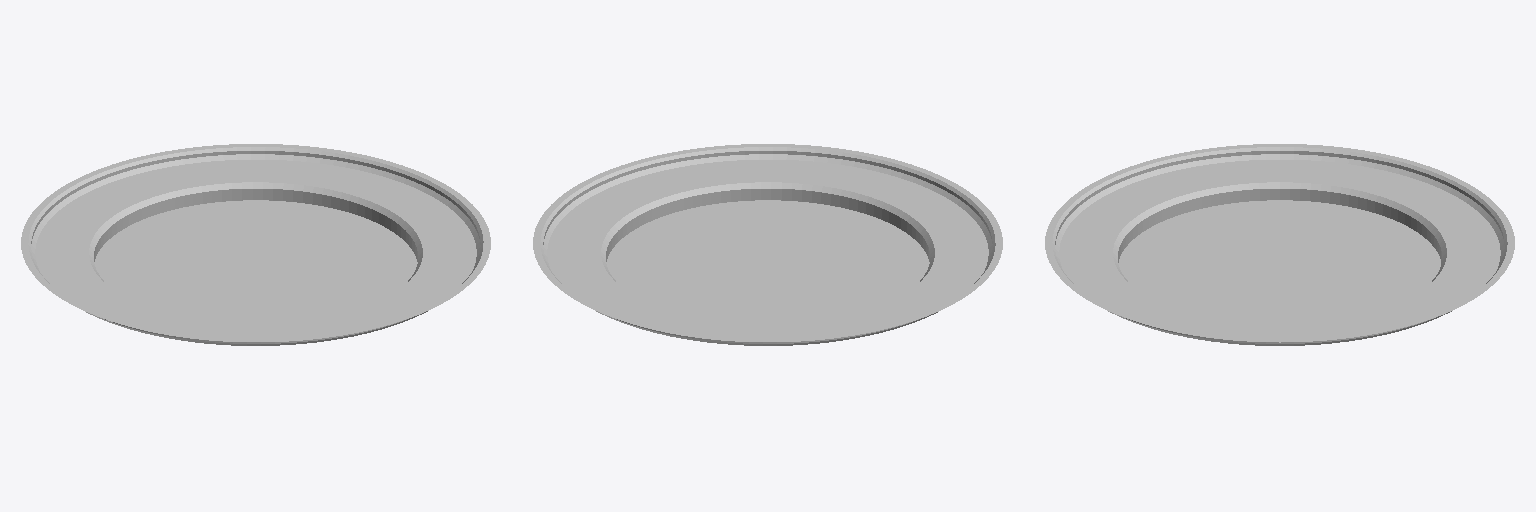
File: plate.obj
3 views of the same model, side by side, from view 1: azimuth 30°, elevation 25°; view 2: azimuth 150°, elevation 25°; view 3: azimuth 270°, elevation 25° (orthographic).
Parts seen in each view (by area): view 1: Circle; view 2: Circle; view 3: Circle.
Boxes of the visible parts, <box> form: Circle: <box>21,144,490,345</box>; Circle: <box>533,144,1002,345</box>; Circle: <box>1045,144,1514,345</box>.
Size of the model in its own units: 0.9852 by 0.0594 by 0.9852.